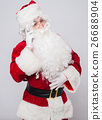phone: (22, 28, 34, 42)
